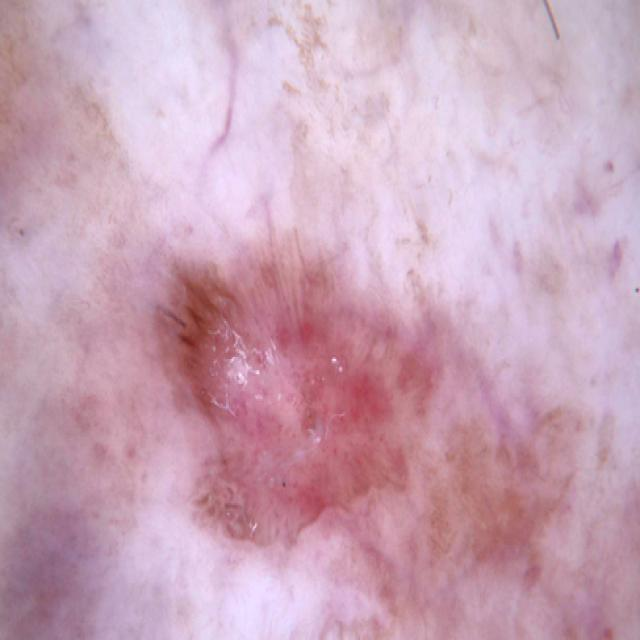Melanoma: (103, 176, 534, 597)
